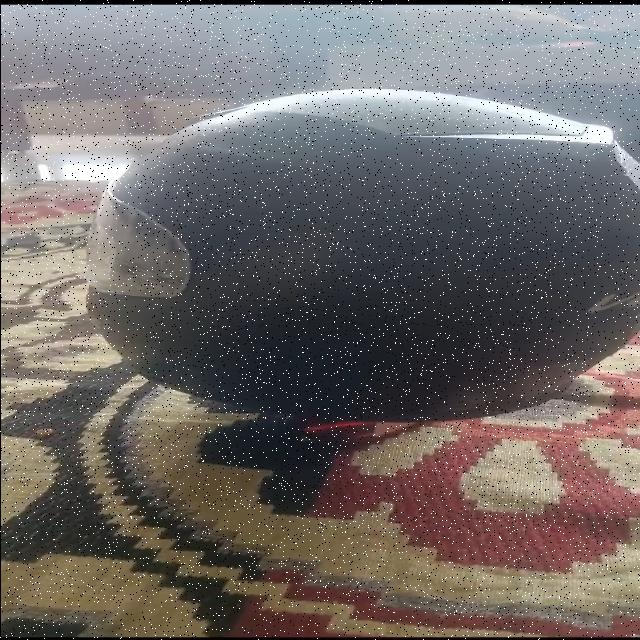Helmet: (85, 87, 640, 446)
